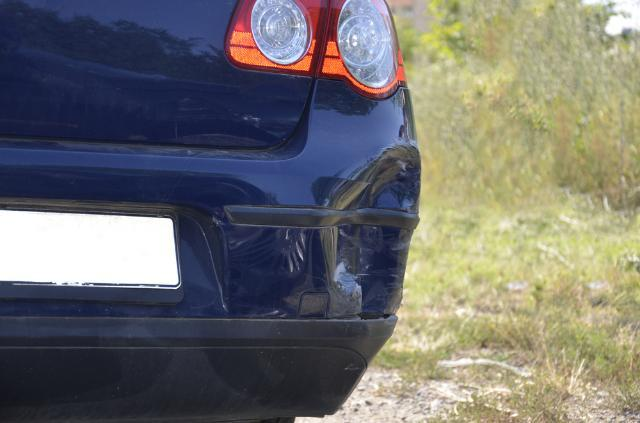dent: (321, 146, 422, 314)
